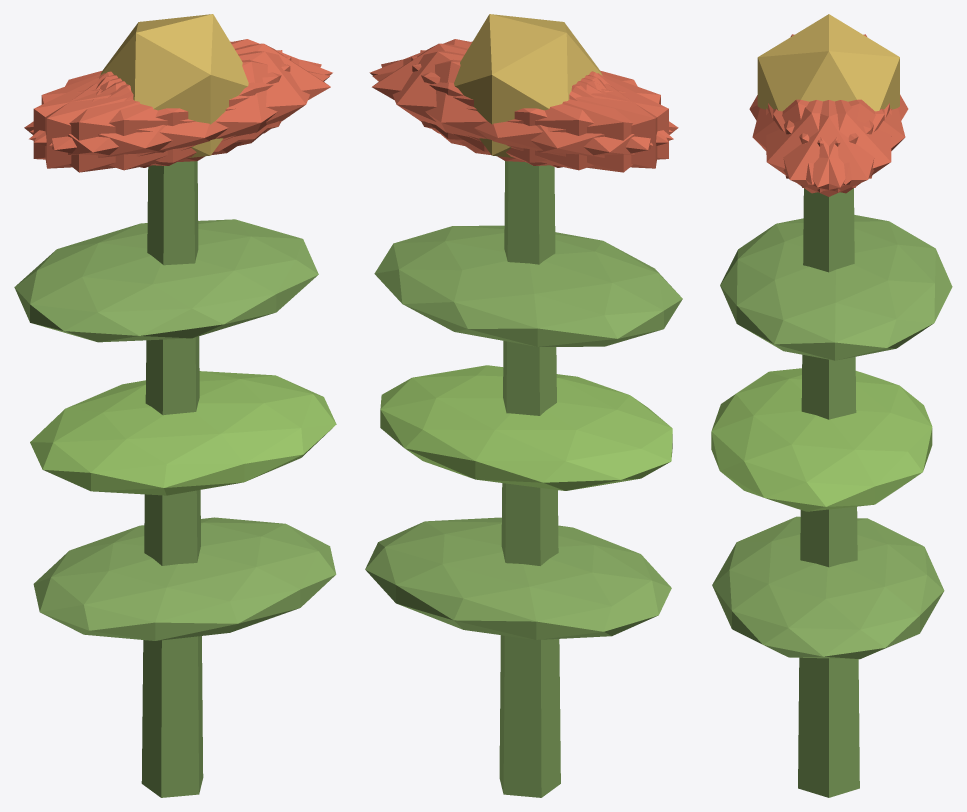
File: ficus-religiosa.glb
3 renders of one model, left to right at view 1: azimuth 30°, elevation 25°; view 2: azimuth 150°, elevation 25°; view 3: azimuth 270°, elevation 25°, orthographic.
Parts seen in each view (by area): view 1: leaf1, leaf2, leaf0, stem, center, petal1, petal6, petal2, petal5, petal7, petal0, petal4 (+2 smaller); view 2: leaf2, leaf0, leaf1, stem, center, petal8, petal3, petal7, petal4, petal2, petal0, petal5 (+2 smaller); view 3: leaf2, leaf0, leaf1, stem, center, petal0, petal4, petal5, petal8, petal1.
Boxes of the visible parts, x1,y1,x2,y2 form: leaf1: (30, 371, 336, 495); leaf2: (14, 219, 318, 342); leaf0: (33, 517, 336, 640); stem: (141, 161, 203, 797); center: (100, 14, 248, 157); petal1: (29, 59, 329, 170); petal6: (24, 73, 242, 172); petal2: (45, 50, 282, 168); petal5: (49, 51, 321, 162); petal7: (33, 56, 291, 165); petal0: (100, 43, 330, 152); petal4: (30, 39, 332, 142); leaf2: (374, 225, 682, 346); leaf0: (365, 517, 671, 639); leaf1: (380, 365, 672, 490); stem: (499, 161, 560, 797); center: (454, 14, 602, 157); petal8: (372, 59, 673, 170); petal3: (460, 73, 678, 172); petal7: (420, 50, 657, 168); petal4: (381, 51, 653, 162); petal2: (411, 56, 668, 165); petal0: (372, 43, 602, 151); petal5: (369, 39, 672, 142); leaf2: (720, 215, 952, 360); leaf0: (712, 516, 944, 659); leaf1: (711, 368, 932, 511); stem: (798, 188, 859, 797); center: (757, 14, 899, 111); petal0: (768, 100, 889, 196); petal4: (773, 100, 891, 193); petal5: (766, 100, 884, 193); petal8: (784, 99, 905, 184); petal1: (752, 99, 873, 184).
Size of the model in its own units: 0.1452 by 0.3566 by 0.1037.
